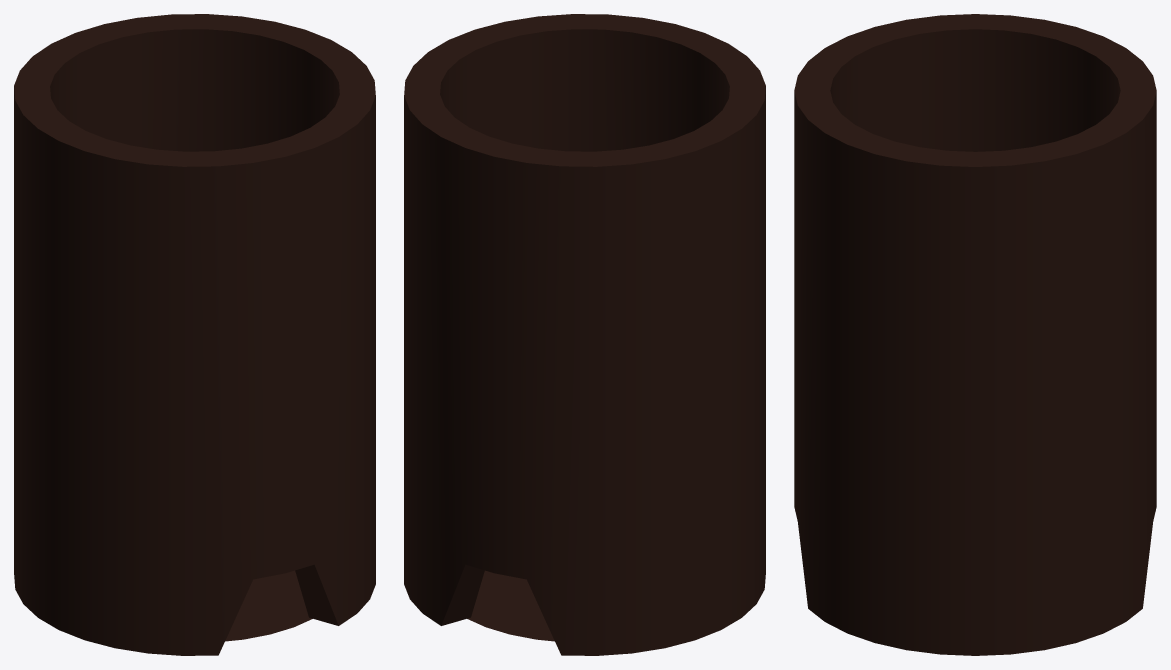
File: TreeHouseOutside.fbx
3 renders of one model, left to right at view 1: azimuth 30°, elevation 25°; view 2: azimuth 150°, elevation 25°; view 3: azimuth 270°, elevation 25°, orthographic.
Parts seen in each view (by area): view 1: Cylinder, Cylinder.001; view 2: Cylinder, Cylinder.001; view 3: Cylinder.
Part boxes in pixels (x1,y1,x2,y2): Cylinder: (14, 14, 375, 655); Cylinder.001: (225, 570, 312, 641); Cylinder: (404, 14, 765, 655); Cylinder.001: (467, 570, 554, 641); Cylinder: (794, 14, 1156, 655).
Size of the model in its own units: 1358 by 2022 by 1358.
